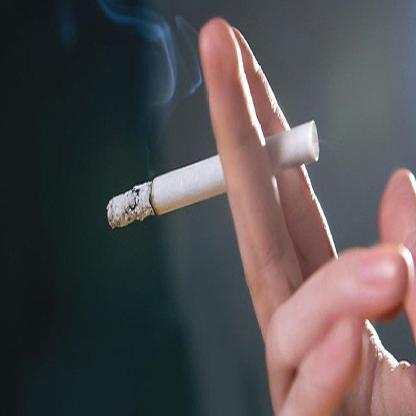cigarette: (105, 118, 321, 233)
smoke: (158, 19, 180, 100)
